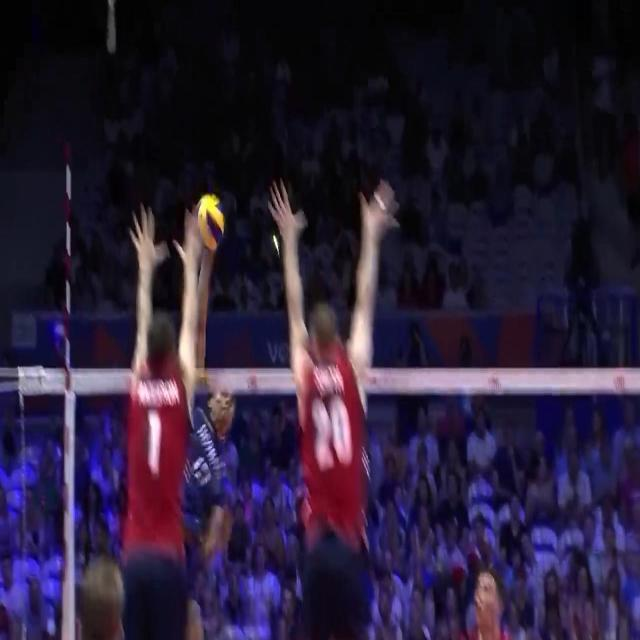volleyball: (192, 193, 225, 250)
